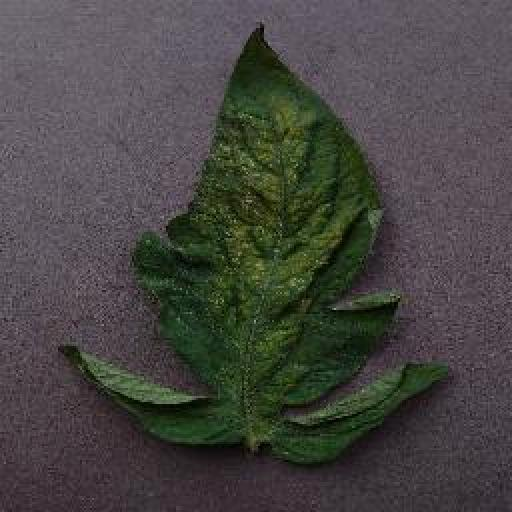disease_tomato: (64, 20, 452, 466)
